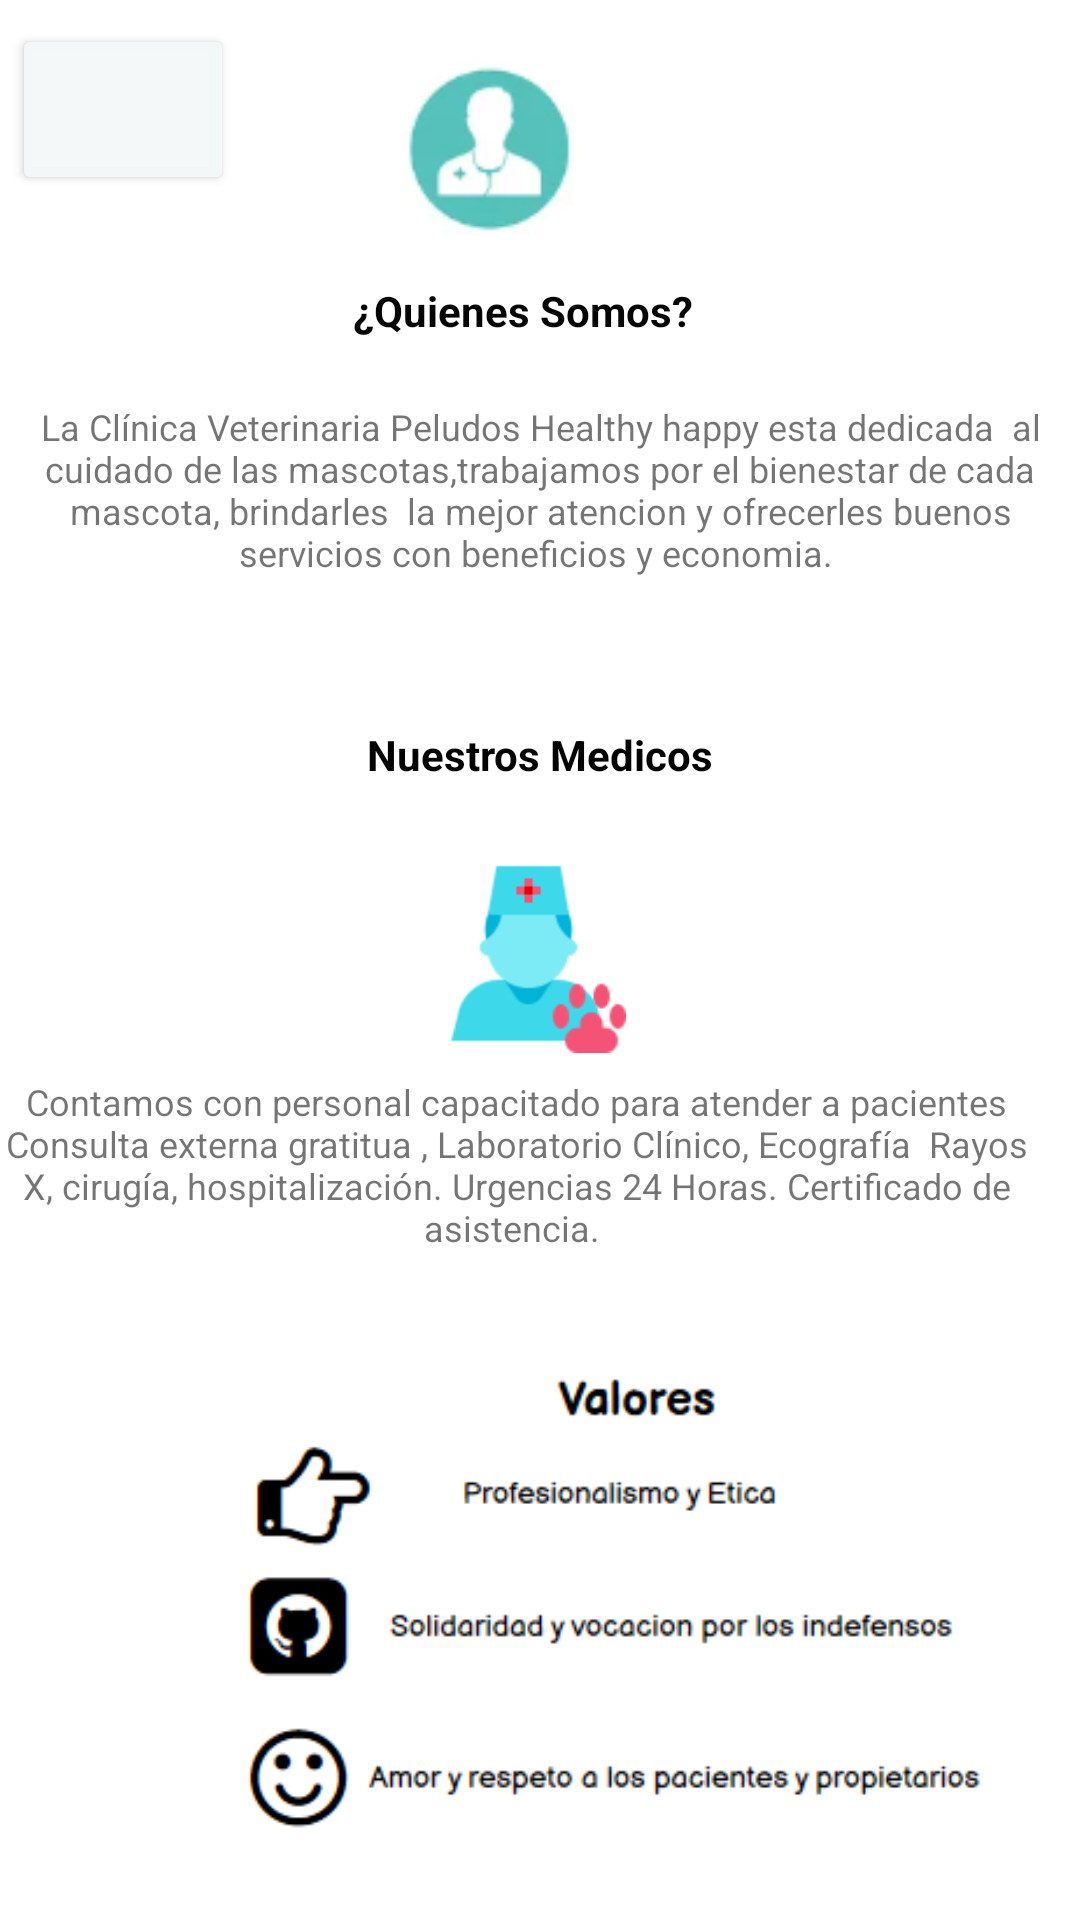

Locate icon controls on the screen. Image size 1080px x 1920px, boxes as (x1, y1, x2, y2).
user: (409, 68, 571, 231)
veterinarian male: (451, 865, 626, 1053)
